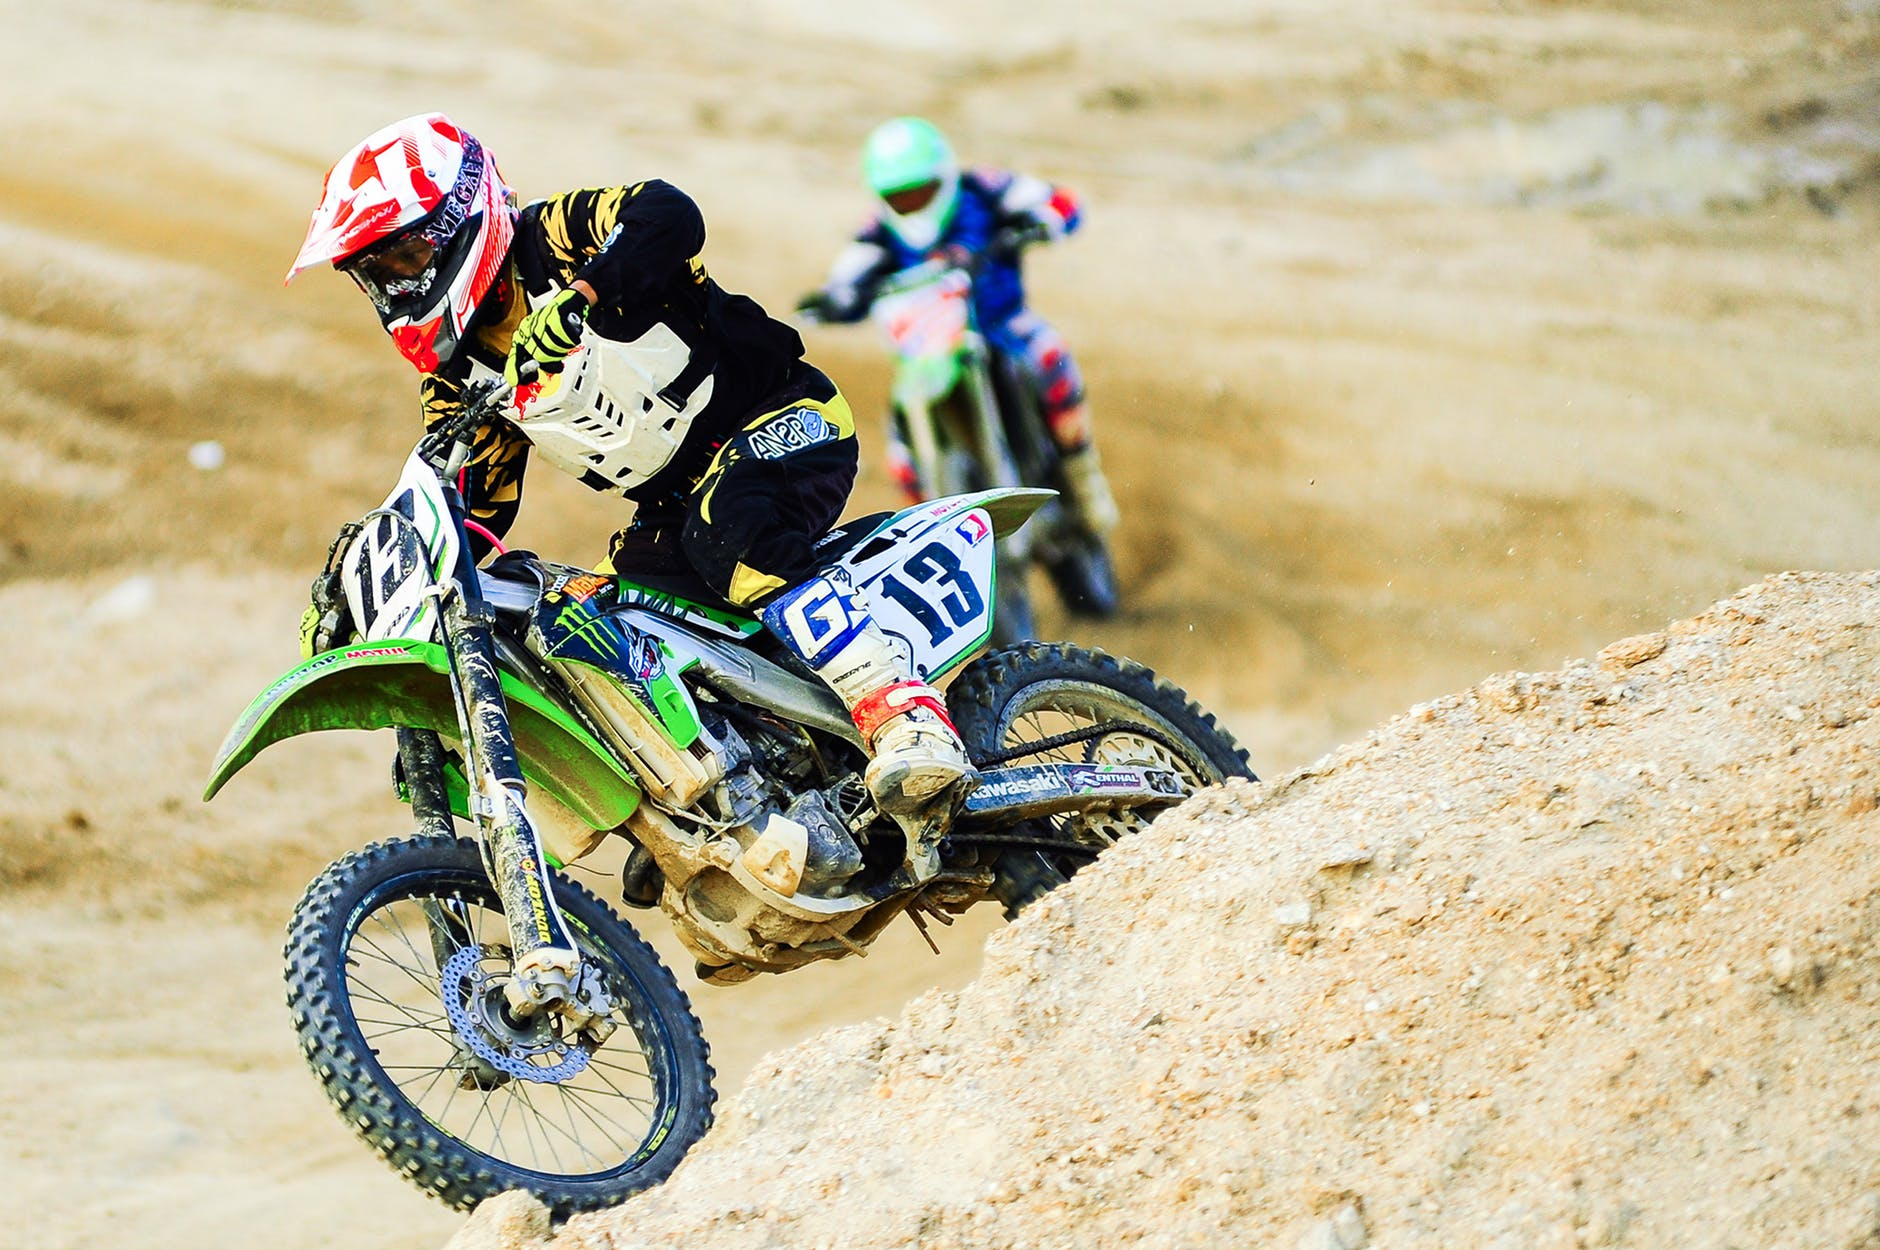helmet: (321, 133, 517, 339)
